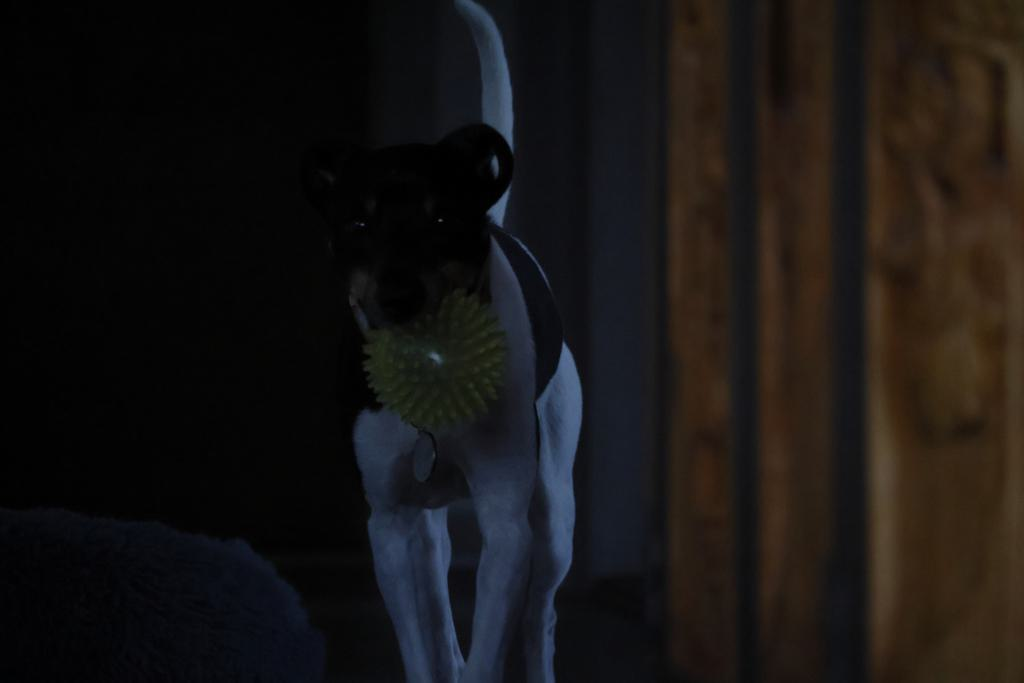Dog: (297, 0, 601, 683)
